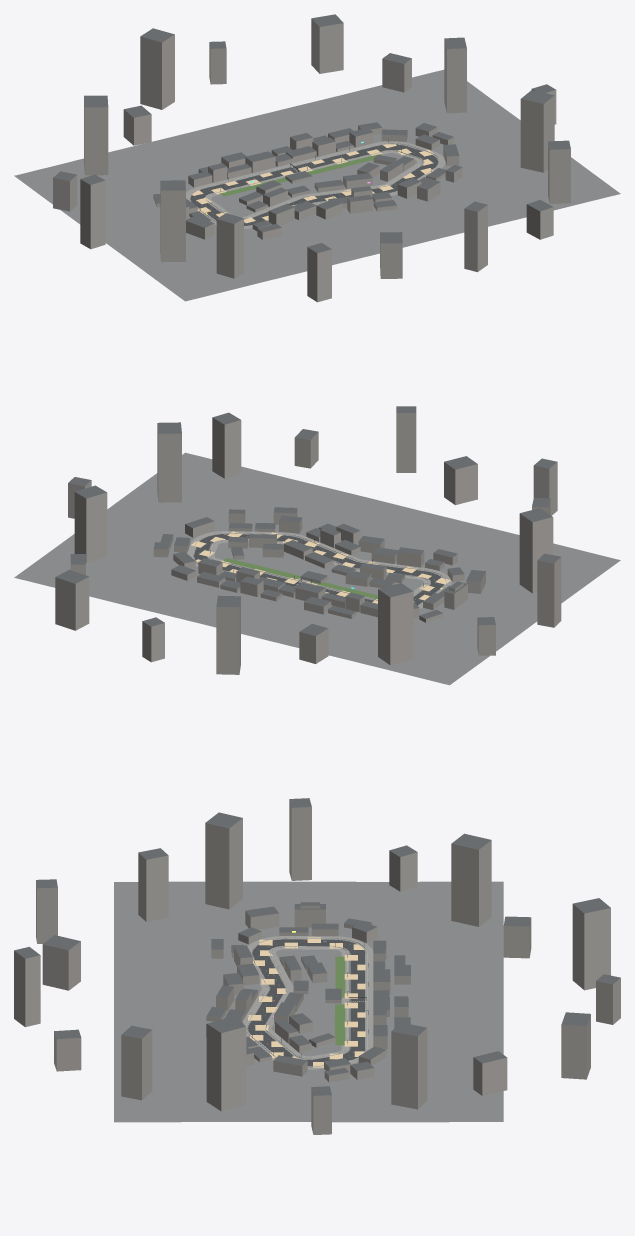
The model's file is harbour_docks.glb.
3 views of the same model, one above another, from view 1: azimuth 30°, elevation 25°; view 2: azimuth 150°, elevation 25°; view 3: azimuth 270°, elevation 25° (orthographic). The views are drawn at different scales.
Parts seen in each view (by area): view 1: harbour_docks - City; view 2: harbour_docks - City; view 3: harbour_docks - City.
Boxes of the visible parts, bbox=[...] form: harbour_docks - City: bbox=[14, 14, 620, 302]; harbour_docks - City: bbox=[14, 406, 620, 685]; harbour_docks - City: bbox=[14, 798, 620, 1134].
Bounding box in the file's own units: 1031 × 549 × 997.
